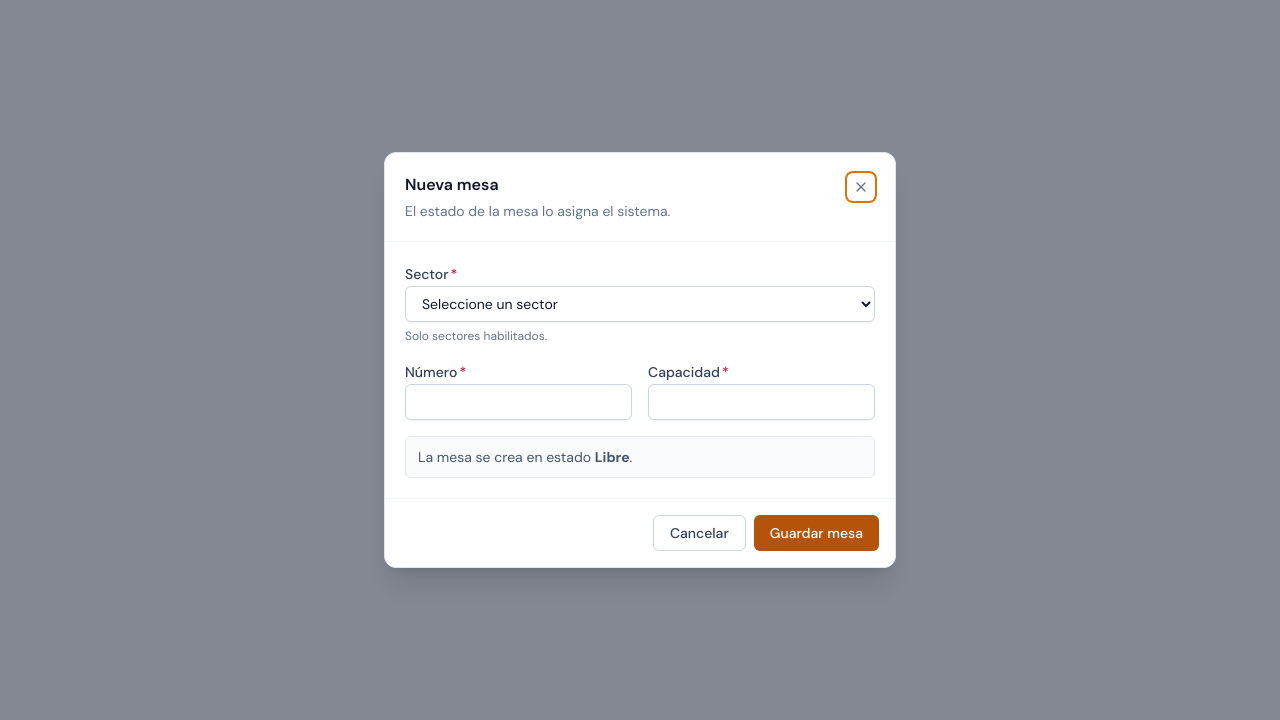
Test case: MesaFormDialog: campos y estado › con los campos vacíos no envía y marca los obligatorios (CA 2)
The width and height of the screenshot is (1280, 720).
Expected: the field labelled "Número*" is shown, [405, 384, 632, 420]
Click the button "Guardar mesa". click: click(816, 533)
box: [754, 515, 879, 551]
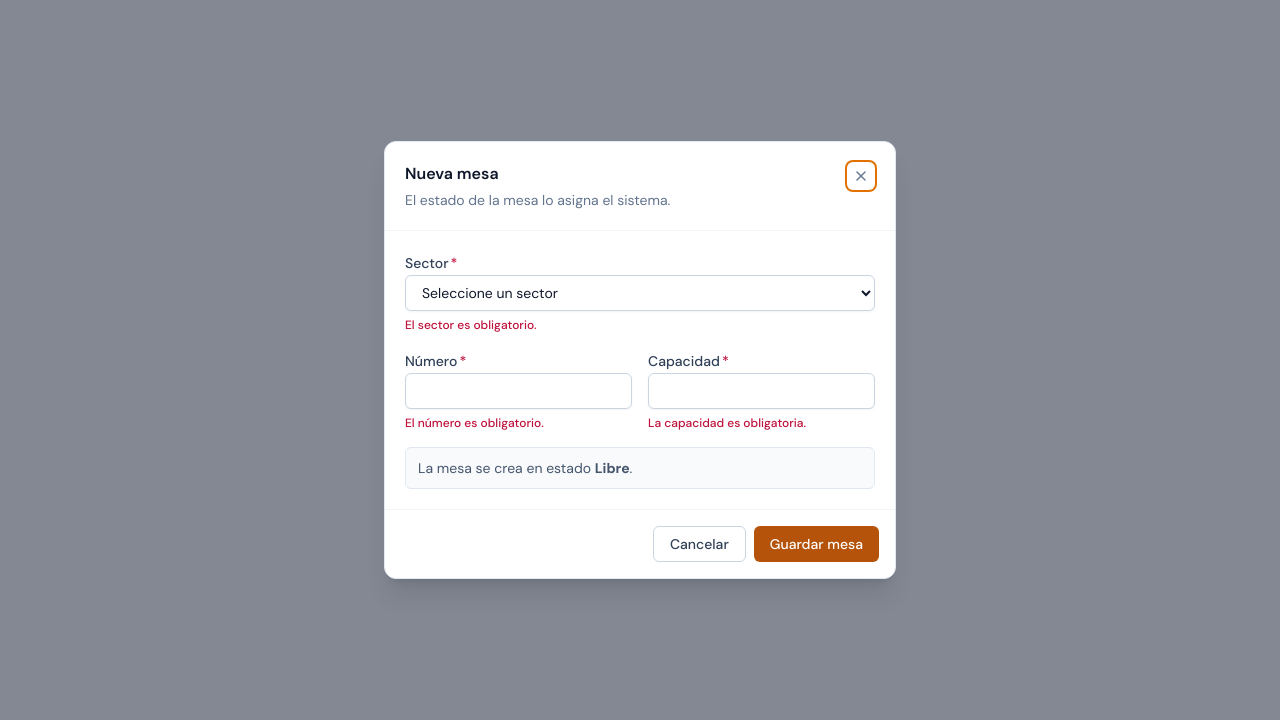
Expected: the text "El número es obligatorio." is shown, [405, 415, 544, 431]
Expected: the text "La capacidad es obligatoria." is shown, [648, 415, 806, 431]
Expected: the text "El sector es obligatorio." is shown, [405, 317, 537, 333]
